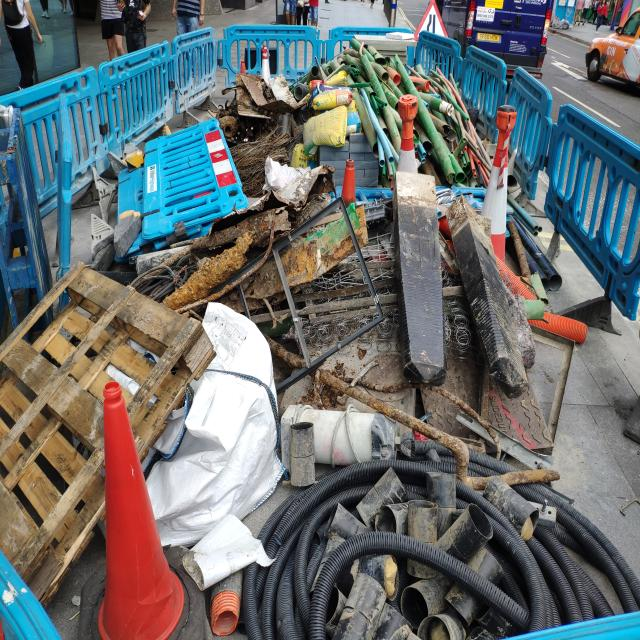entulho: (0, 259, 182, 634), (394, 509, 636, 639), (412, 319, 589, 483), (272, 447, 421, 640), (134, 185, 345, 318), (141, 376, 286, 539), (124, 115, 258, 239), (448, 194, 528, 388), (387, 165, 453, 380), (348, 39, 444, 180), (267, 398, 395, 471), (419, 71, 490, 199), (492, 190, 570, 293), (484, 102, 522, 310), (302, 104, 385, 197), (185, 513, 263, 594), (233, 71, 299, 132), (262, 157, 332, 209), (520, 310, 594, 338)
